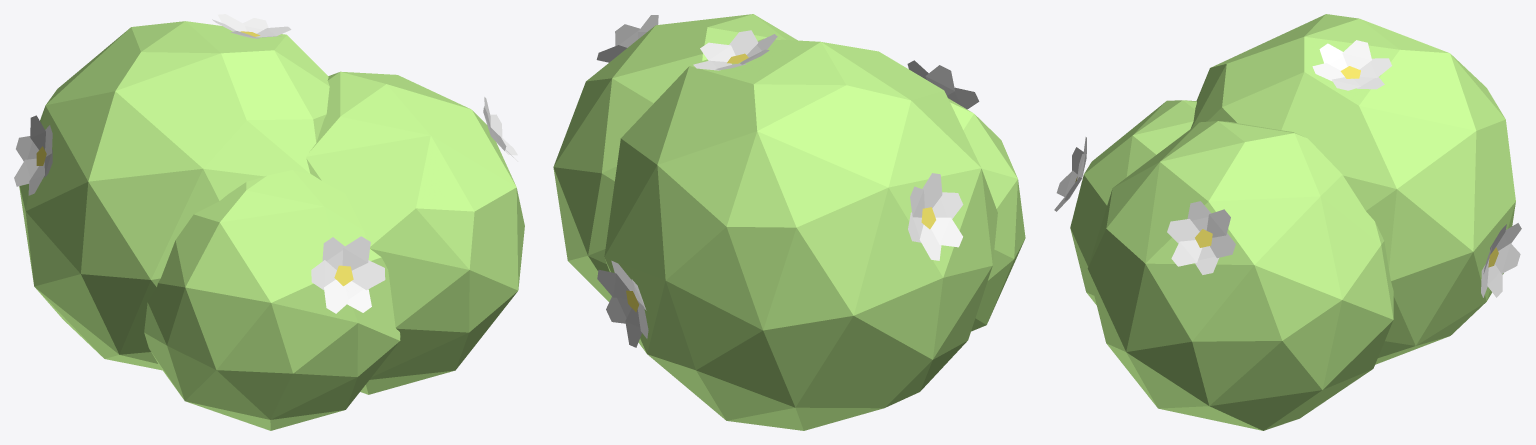
Rendered from FlowerBush_c_m_01.fbx.
3 views of the same model, side by side, from view 1: azimuth 30°, elevation 25°; view 2: azimuth 150°, elevation 25°; view 3: azimuth 270°, elevation 25° (orthographic). The views are drawn at different scales.
Visible parts, largest first — view 1: FlowerBush_c_m_01; view 2: FlowerBush_c_m_01; view 3: FlowerBush_c_m_01.
Part boxes in pixels (<box>): FlowerBush_c_m_01: <box>14,14,524,430</box>; FlowerBush_c_m_01: <box>553,14,1025,430</box>; FlowerBush_c_m_01: <box>1054,14,1521,430</box>.
Bounding box in the file's own units: 163 × 127 × 164.
